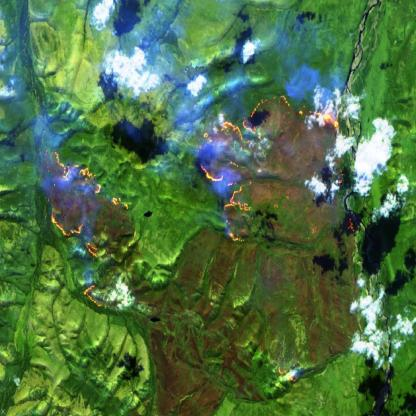fire: (194, 90, 358, 244), (40, 142, 131, 316), (270, 358, 303, 392)
